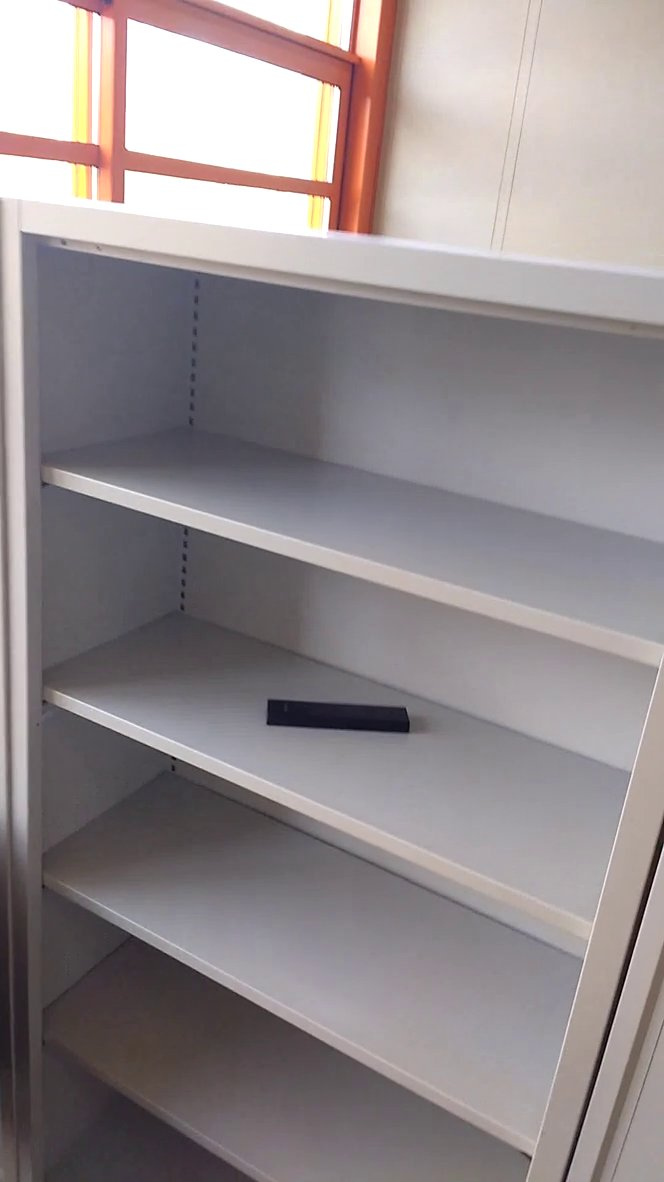remote: (238, 691, 432, 753)
